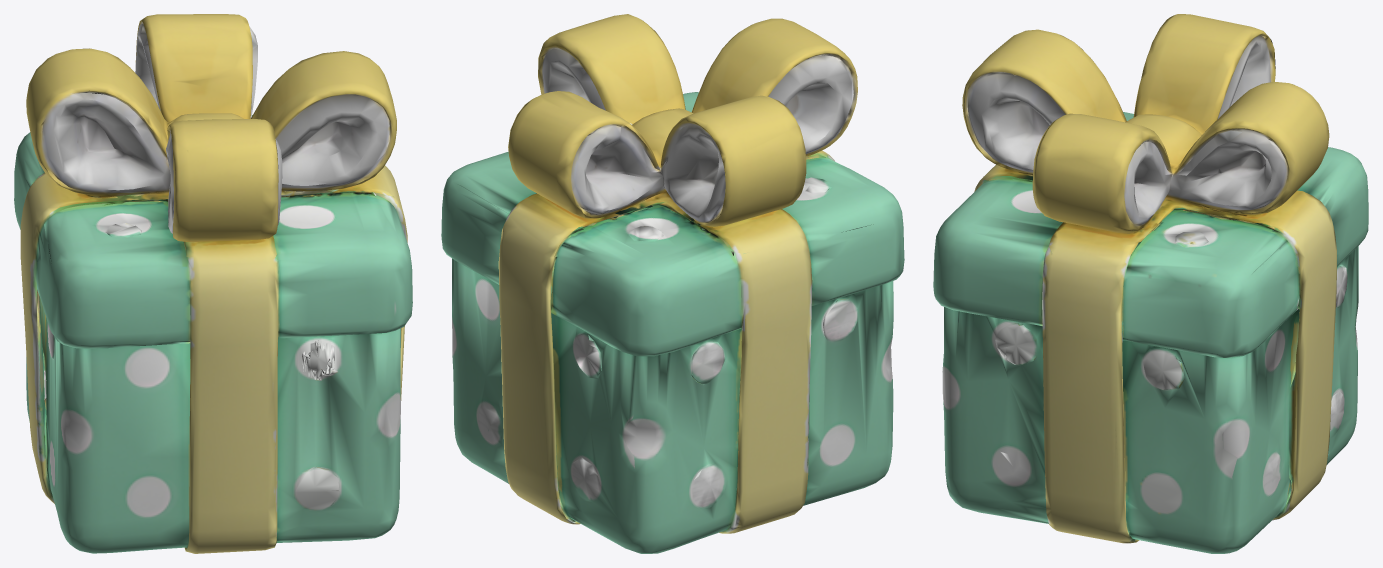
3 renders of one model, left to right at view 1: azimuth 30°, elevation 25°; view 2: azimuth 150°, elevation 25°; view 3: azimuth 270°, elevation 25°, orthographic. The views are drawn at different scales.
Visible parts, largest first — view 1: repaired; view 2: repaired; view 3: repaired.
Boxes of the visible parts, bbox=[...] form: repaired: bbox=[14, 14, 412, 553]; repaired: bbox=[441, 14, 904, 553]; repaired: bbox=[933, 14, 1368, 553].
Size of the model in its own units: 0.9648 by 0.9996 by 0.9643.
1 material, 1 textured.
